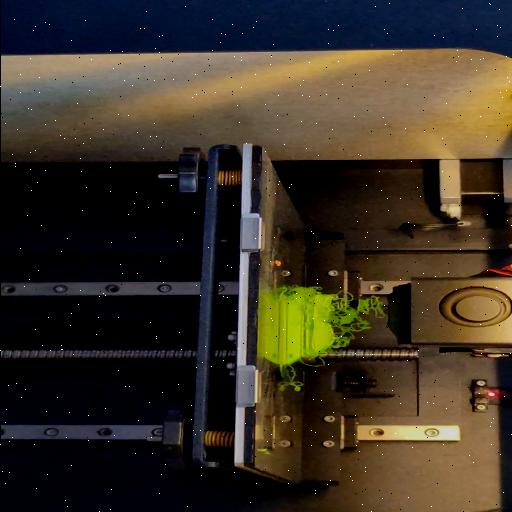spaghetti: (326, 290, 384, 350), (286, 366, 304, 390), (300, 356, 328, 368), (278, 286, 288, 294)
